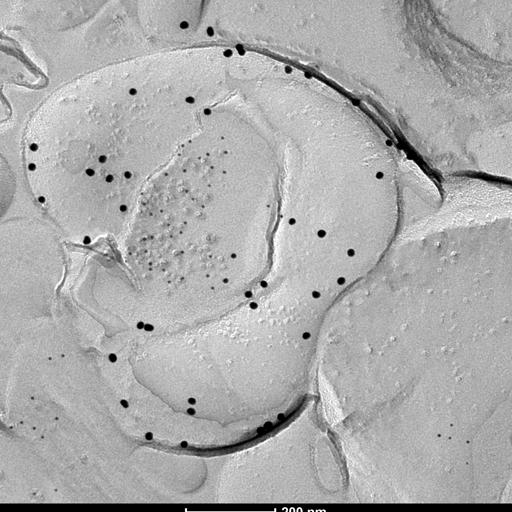1: (221, 277, 229, 285), (229, 252, 237, 260)
6 nm Particle: (166, 279, 172, 285), (205, 273, 211, 279), (161, 267, 167, 273), (147, 266, 153, 272), (127, 250, 133, 256), (143, 248, 149, 254), (150, 234, 156, 240), (168, 234, 174, 240), (178, 230, 184, 236), (166, 222, 172, 228), (182, 220, 188, 226), (158, 209, 164, 215), (200, 204, 206, 210), (190, 196, 196, 202), (139, 190, 145, 196), (207, 182, 213, 188), (163, 171, 169, 177), (182, 168, 188, 174), (209, 165, 215, 171), (196, 155, 202, 161), (205, 152, 211, 158), (223, 149, 229, 155), (176, 151, 182, 157), (179, 142, 185, 148), (220, 169, 226, 175), (184, 189, 190, 195), (148, 212, 154, 218), (141, 202, 147, 208), (141, 236, 147, 242), (147, 261, 153, 267), (179, 249, 185, 255), (206, 253, 212, 259), (179, 275, 185, 281), (209, 286, 215, 292)
